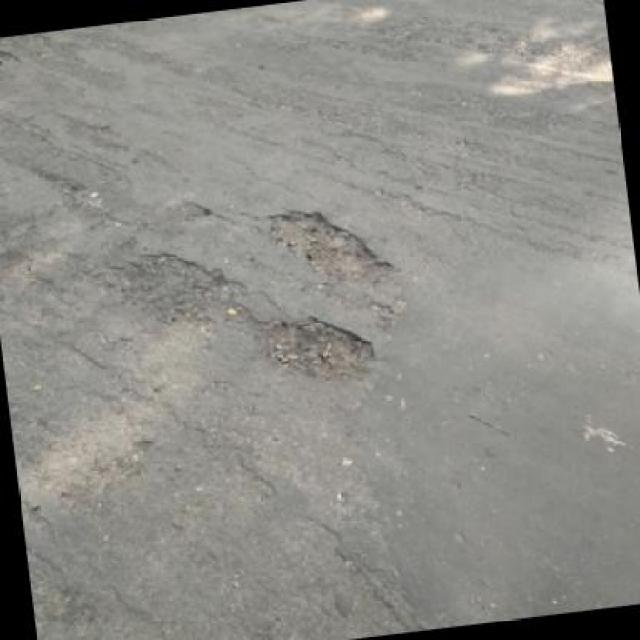pothole1: (109, 236, 256, 335), (263, 192, 400, 296), (259, 302, 383, 396)
